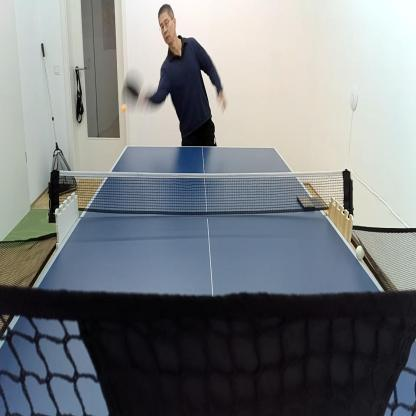Ball: (355, 244, 366, 261), (121, 104, 127, 115)
